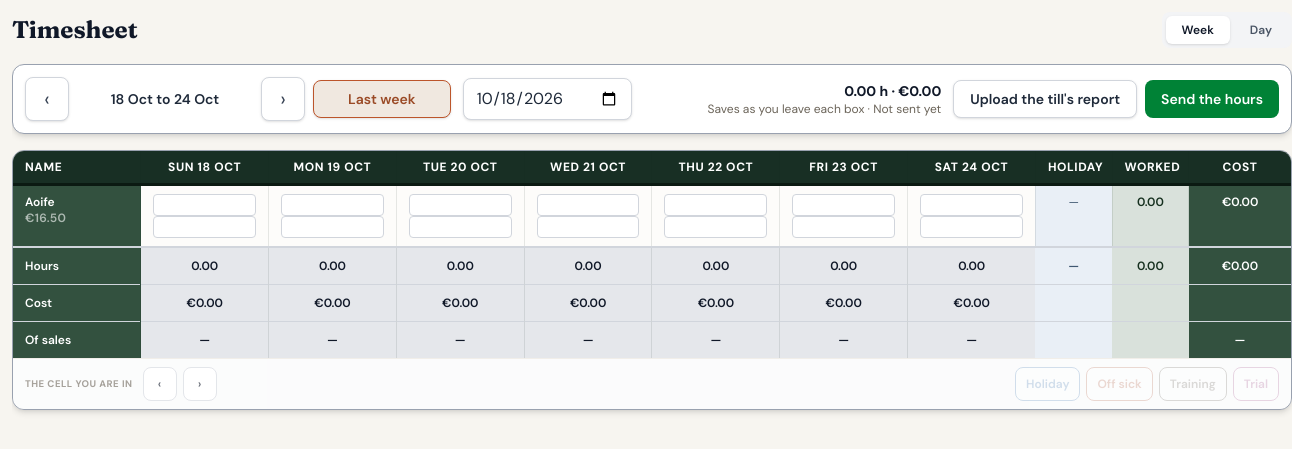
Test case: typing into a cell with nothing in it › lets the digits land
Step 1. Type "0900" into the 1st field named "Clock in" → (205, 205), box left=153, top=194, right=256, bottom=216
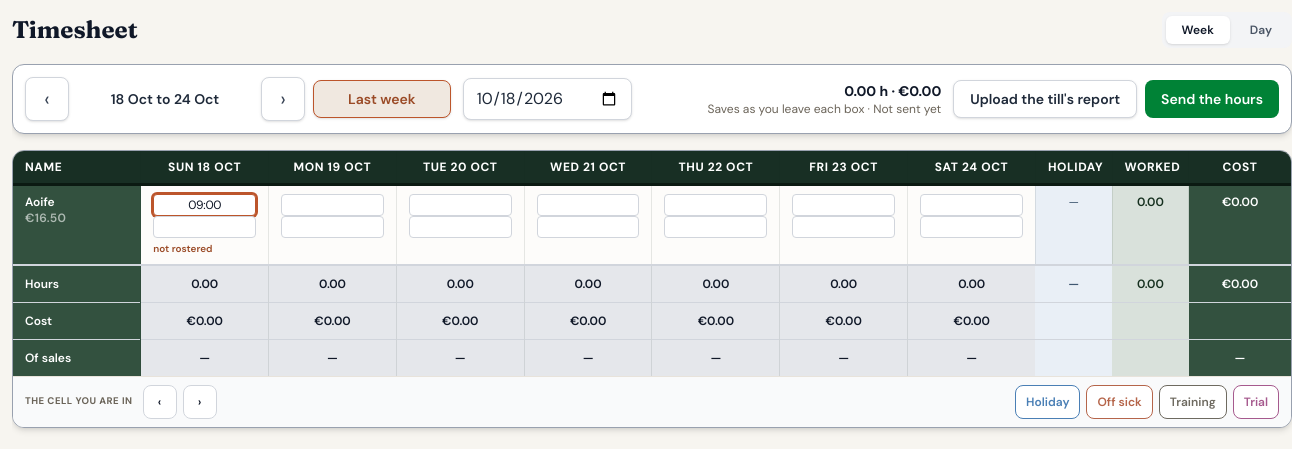
Result: the 1st field named "Clock in" holds "09:00" at left=153, top=194, right=256, bottom=216
